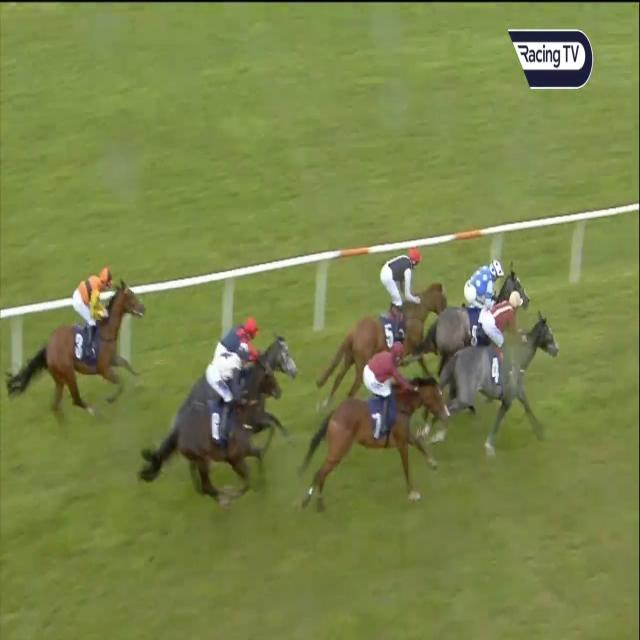horses-racing: (311, 342, 454, 543), (16, 262, 150, 410), (157, 346, 282, 499), (451, 296, 569, 452), (340, 250, 442, 355), (430, 253, 530, 354), (195, 298, 312, 384)
